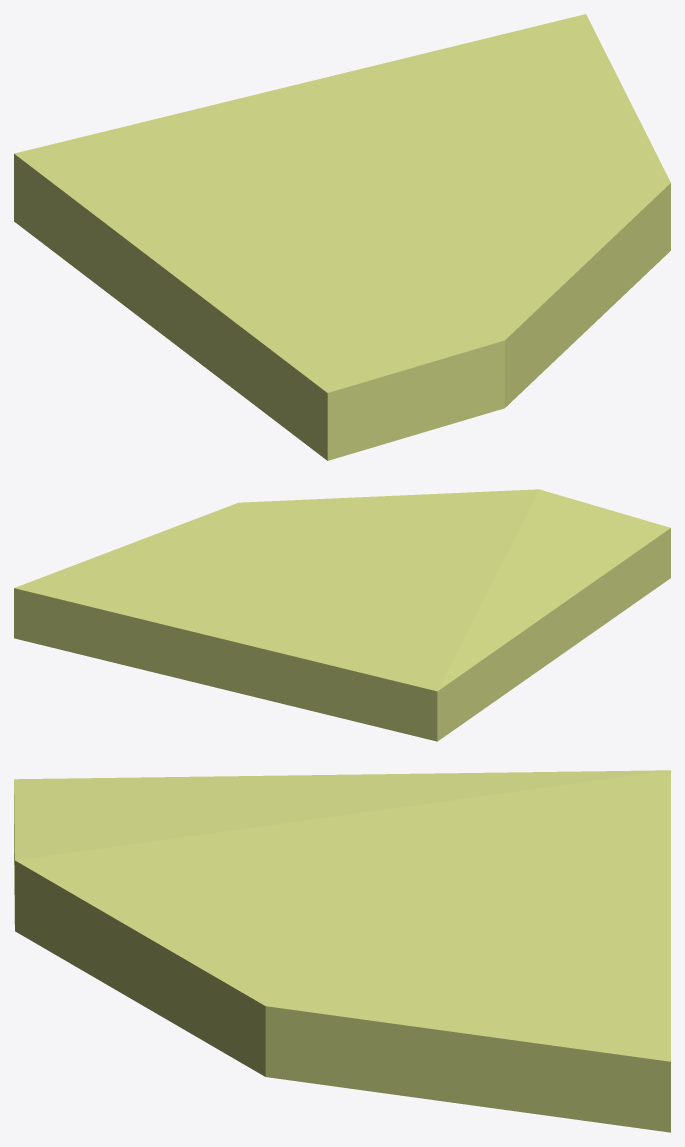
File: glassground2.fbx
3 views of the same model, one above another, from view 1: azimuth 30°, elevation 25°; view 2: azimuth 150°, elevation 25°; view 3: azimuth 270°, elevation 25° (orthographic). The views are drawn at different scales.
Parts seen in each view (by area): view 1: pCylinder3; view 2: pCylinder3; view 3: pCylinder3.
Part boxes in pixels (x1=…): pCylinder3: x1=14, y1=14, x2=670, y2=460; pCylinder3: x1=14, y1=489, x2=670, y2=741; pCylinder3: x1=14, y1=770, x2=670, y2=1132.
Size of the model in its own units: 2.15 by 0.2763 by 2.05.
